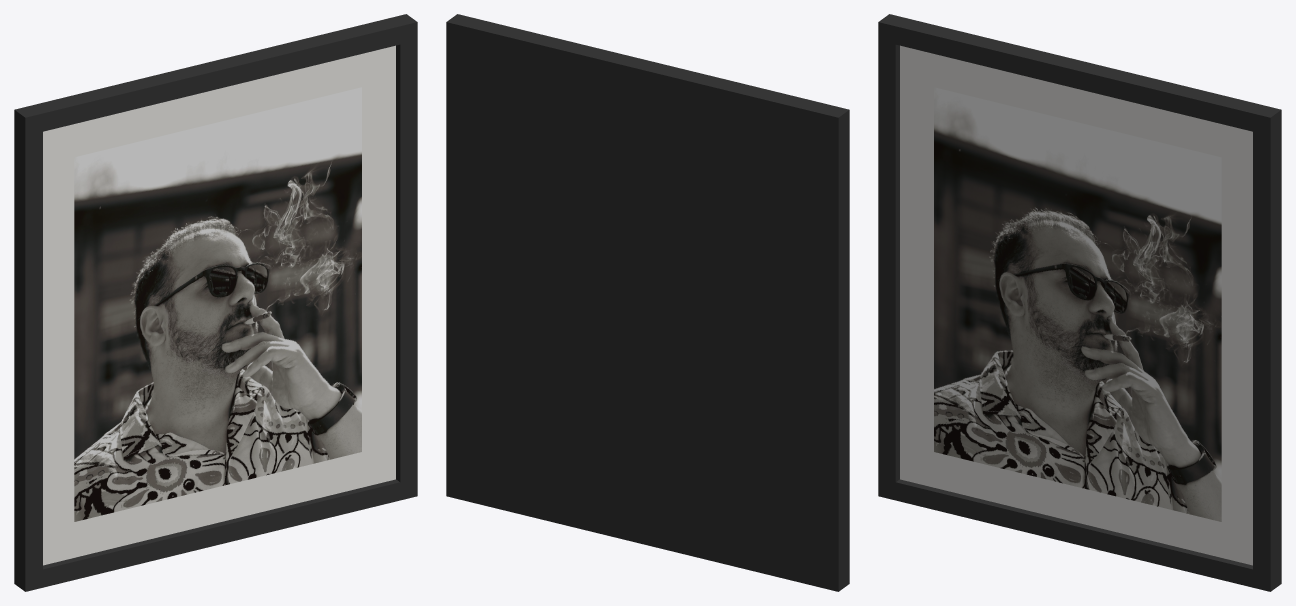
Rendered from roken-40.gltf.
3 views of the same model, side by side, from view 1: azimuth 30°, elevation 25°; view 2: azimuth 150°, elevation 25°; view 3: azimuth 330°, elevation 25° (orthographic).
Visible parts, largest first — view 1: tavla; view 2: tavla; view 3: tavla.
Boxes of the visible parts, x1,y1,x2,y2 form: tavla: [14, 14, 417, 591]; tavla: [446, 14, 849, 591]; tavla: [878, 14, 1281, 591].
Size of the model in its own units: 0.45 by 0.52 by 0.022.
3 materials, 1 textured.
